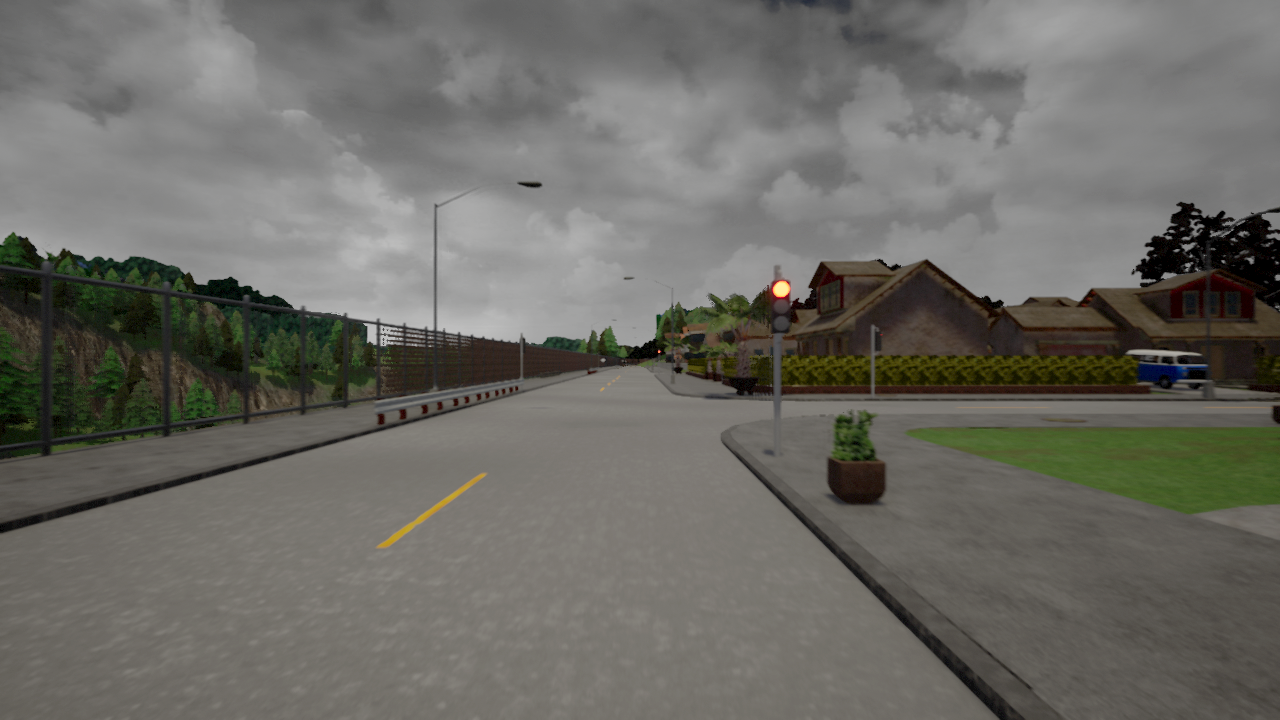red: (770, 278, 791, 333)
